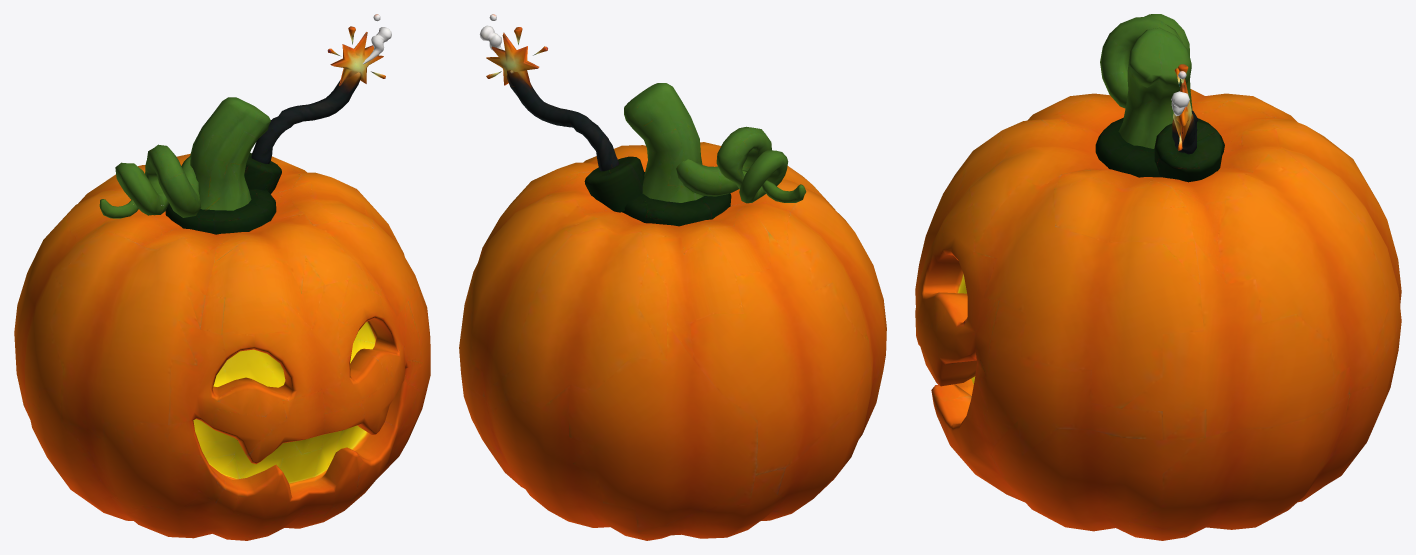
Rendered from pumpkin_bomb.glb.
3 renders of one model, left to right at view 1: azimuth 30°, elevation 25°; view 2: azimuth 150°, elevation 25°; view 3: azimuth 270°, elevation 25°, orthographic. The views are drawn at different scales.
Visible parts, largest first — view 1: geometry_0; view 2: geometry_0; view 3: geometry_0.
Boxes of the visible parts, x1,y1,x2,y2 form: geometry_0: (14,14,430,540); geometry_0: (459,14,886,540); geometry_0: (915,14,1401,540).
Size of the model in its own units: 0.8394 by 0.9531 by 0.8281.
1 material, 1 textured.
